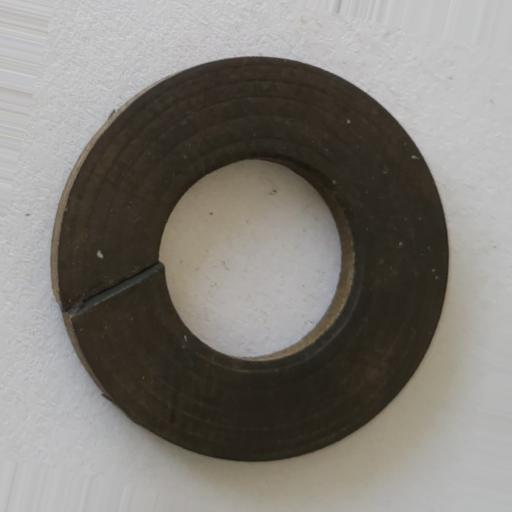defect: (66, 261, 162, 318)
